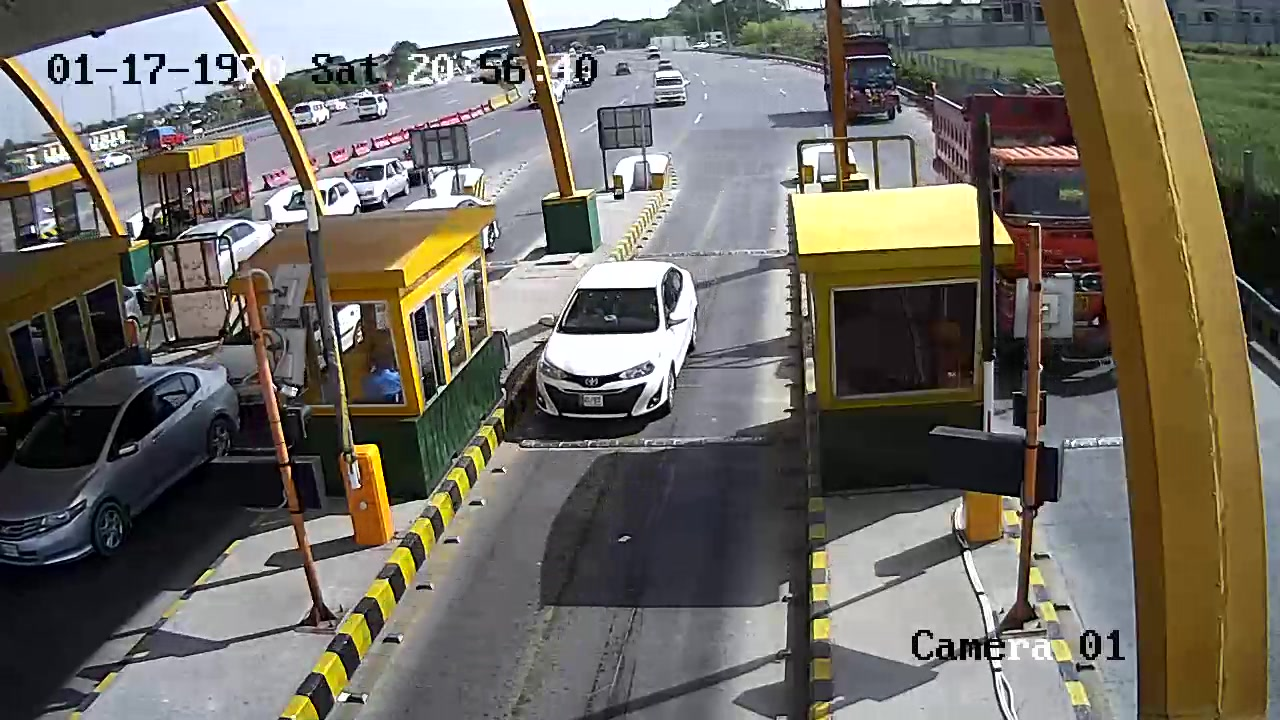F1: (538, 254, 717, 454)
